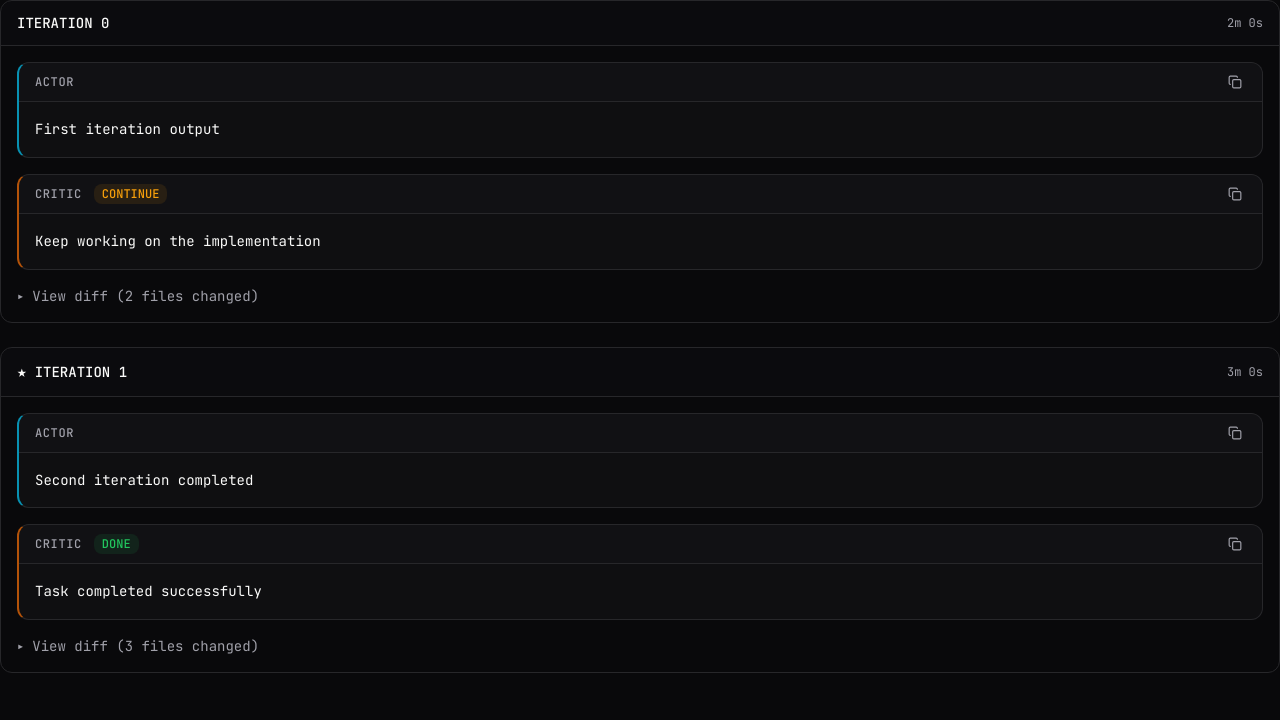
IterationConversation › diff expansion › should expand diff when clicked
Click the text "View diff (2 files changed)".
click(146, 296)  # box [32,286,259,306]
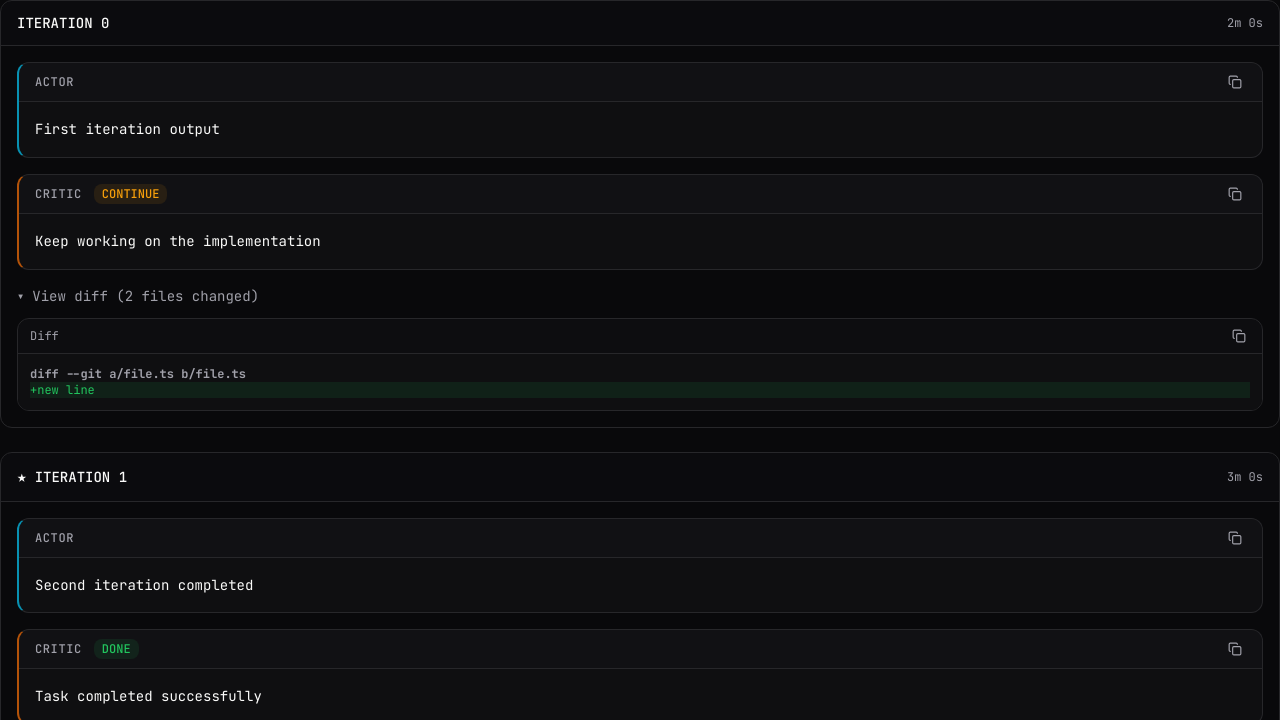
Expected: the text "+new line" is shown, [30,382,1250,398]
